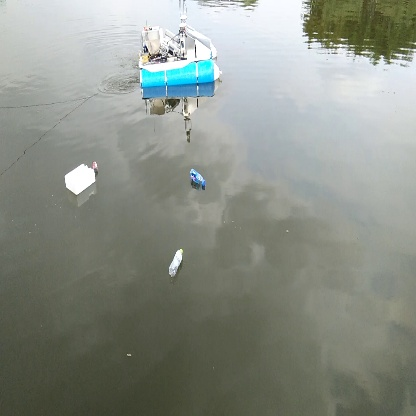bottle: (166, 248, 186, 278), (188, 166, 208, 192)
plastic-garbage: (64, 161, 100, 198)
